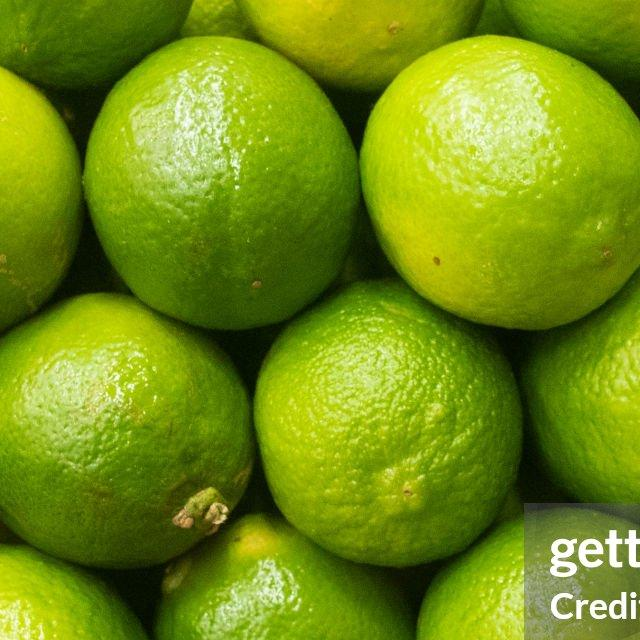lime: (353, 36, 640, 336), (0, 68, 87, 340)
